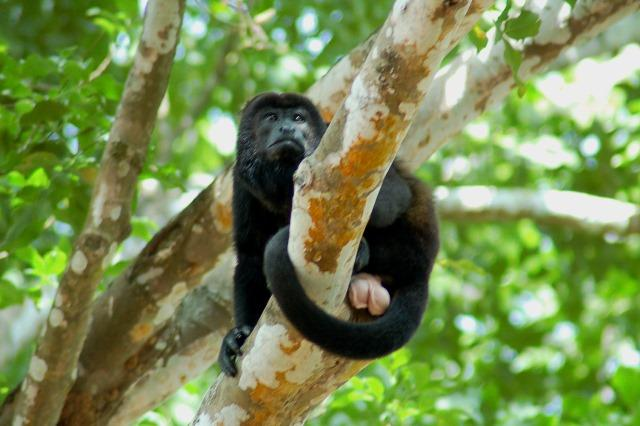monkey: (234, 0, 488, 363)
